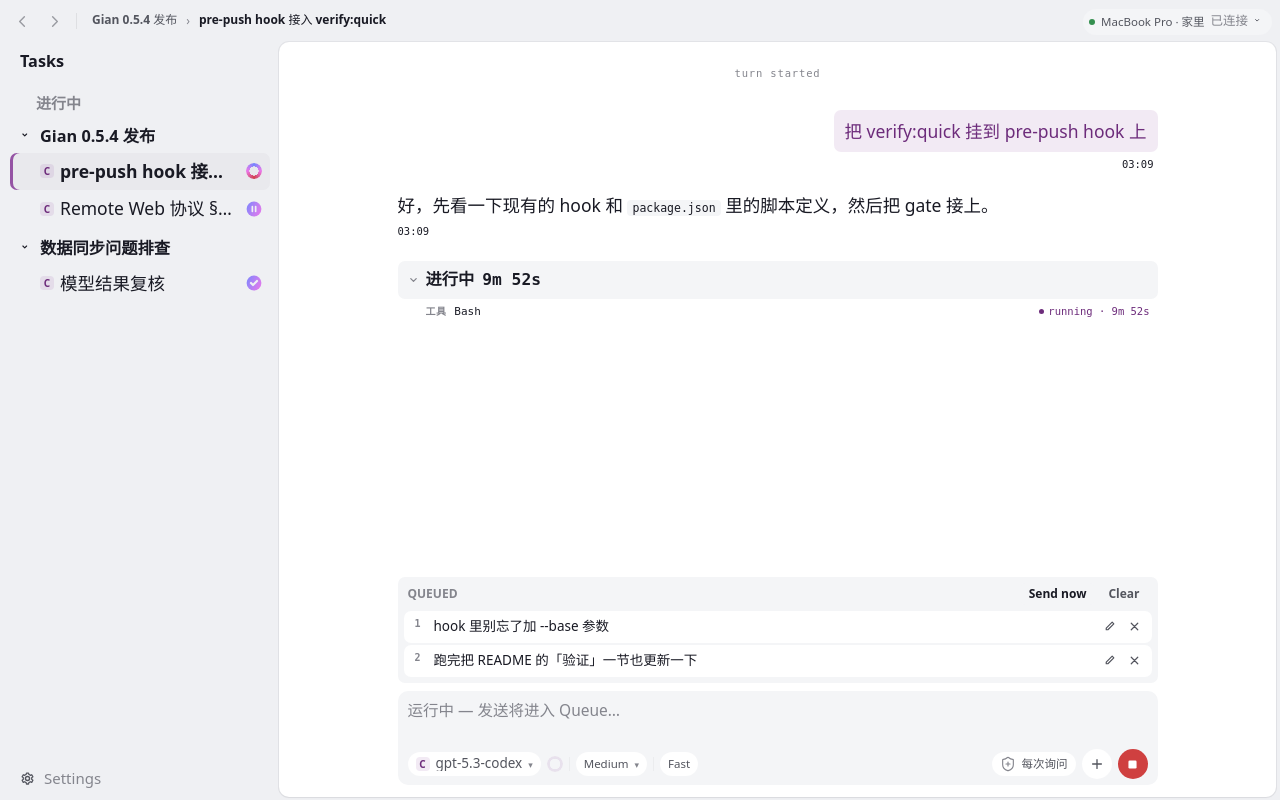
queue UI (B6) › edit keeps the entry position and issues queue.update
Click the button named "Edit" in the row of "跑完把 README 的「验证」一节也更新一下" at (1109, 660), box [1098,650,1120,672]
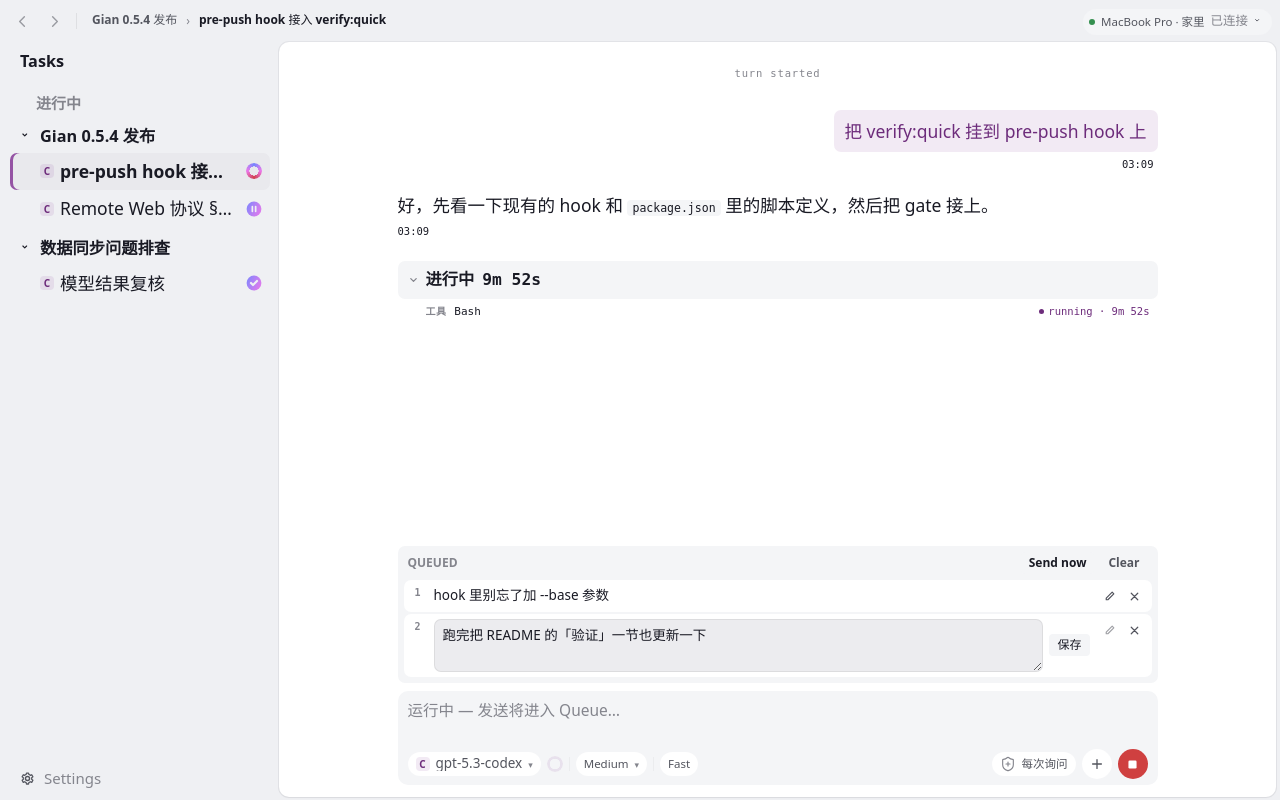
Replace the text in the text box named "Edit" with "改写后的第二条" at (738, 645), box [434,619,1044,672]
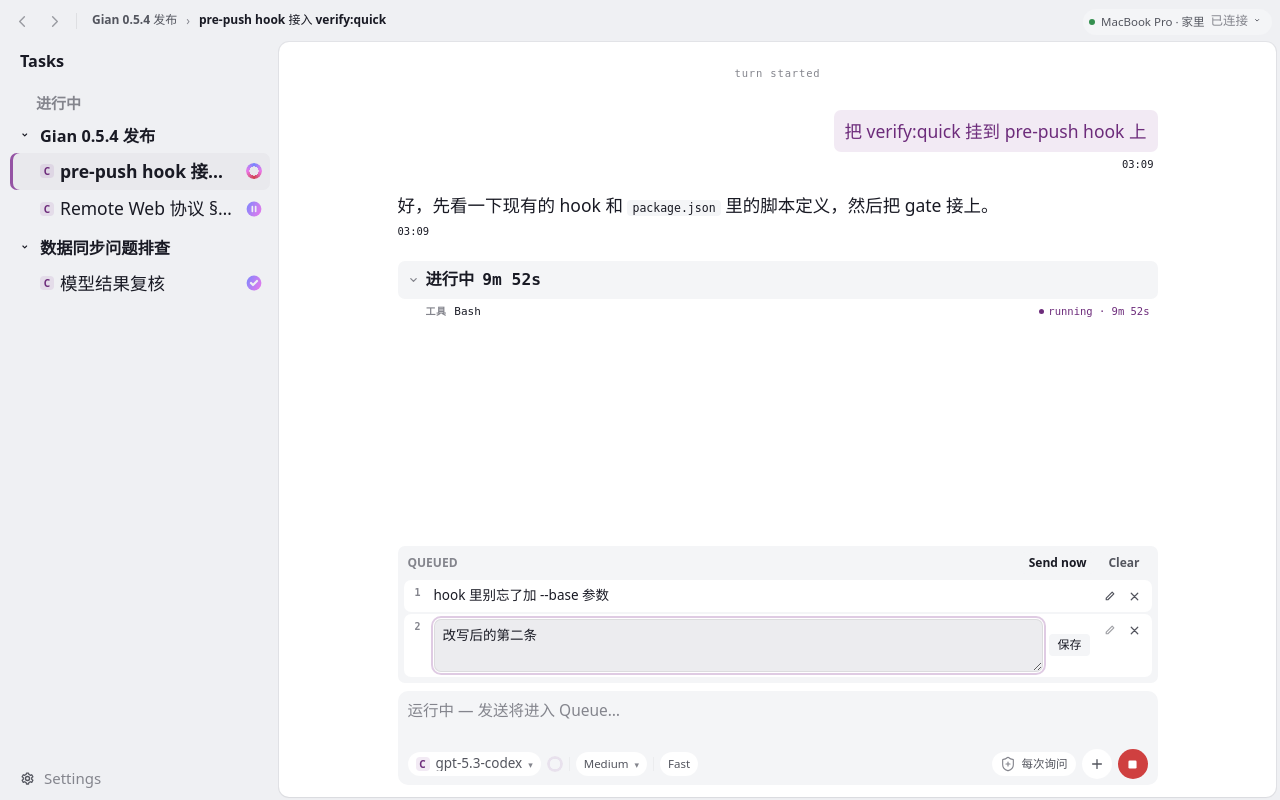
Click the button "保存" at (1070, 645), box [1050,634,1090,656]
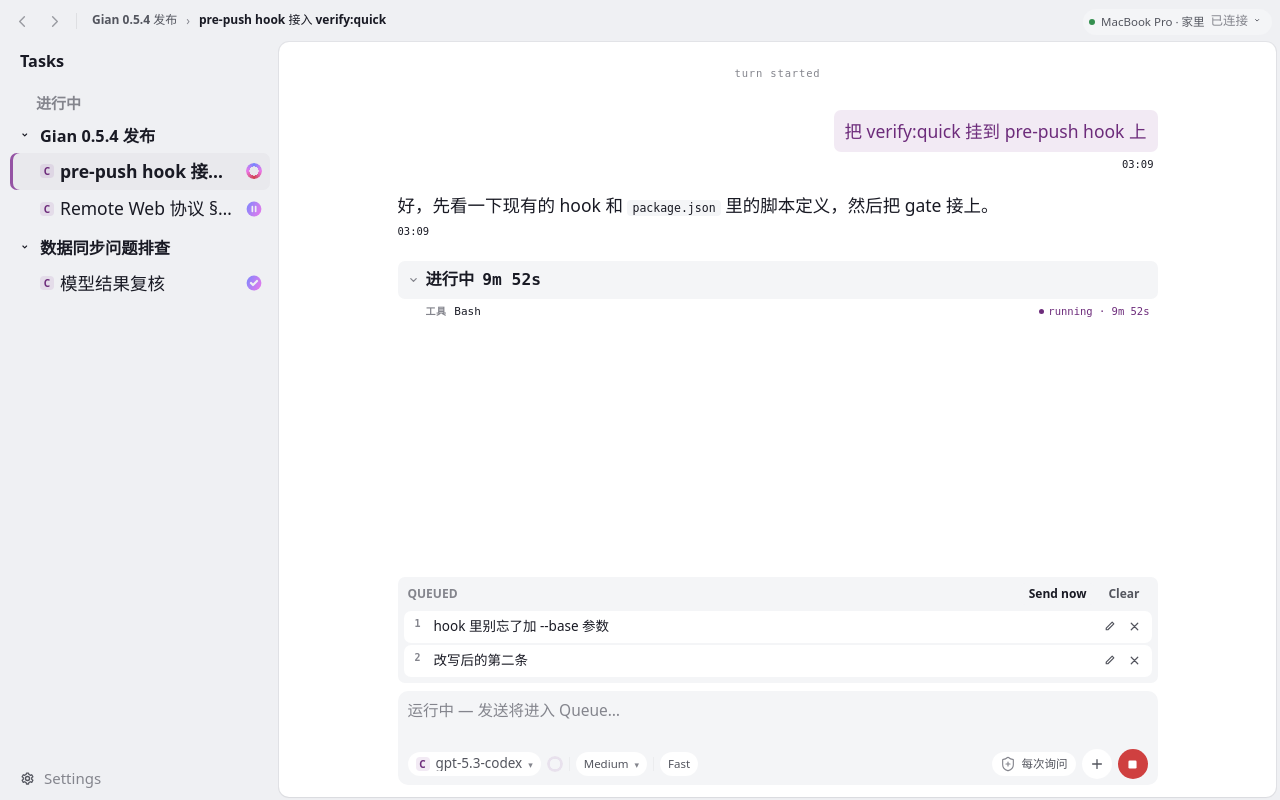
Expected: the text "hook 里别忘了加 --base 参数" is shown, [434,616,609,636]
Expected: the text "改写后的第二条" is shown, [434,650,528,670]
